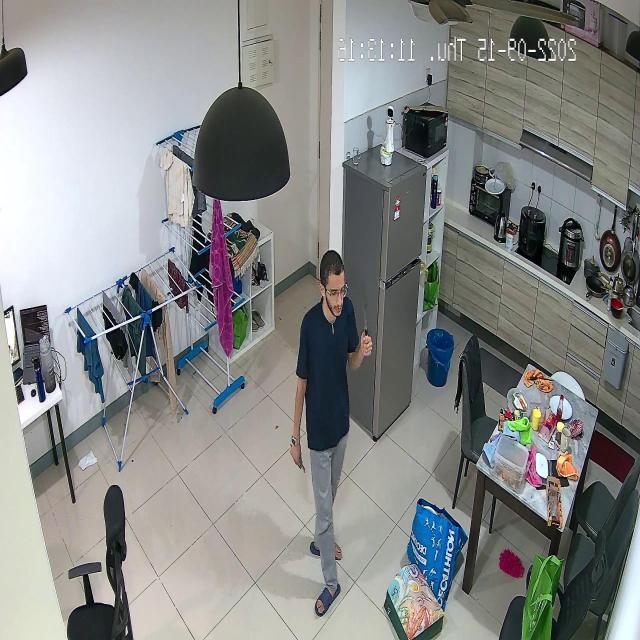Knife: (358, 297, 378, 344)
